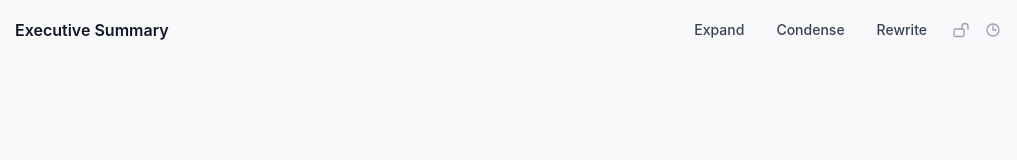
Scenario: SectionActionToolbar › clicking Rewrite opens inline input with correct placeholder
Click the button "Rewrite" at x=902, y=30, box 865,8 -> 939,52
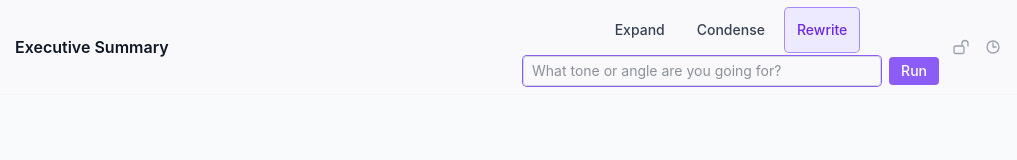
Now the field with placeholder "What tone or angle are you going for?" is shown, box 523,56 -> 881,86
